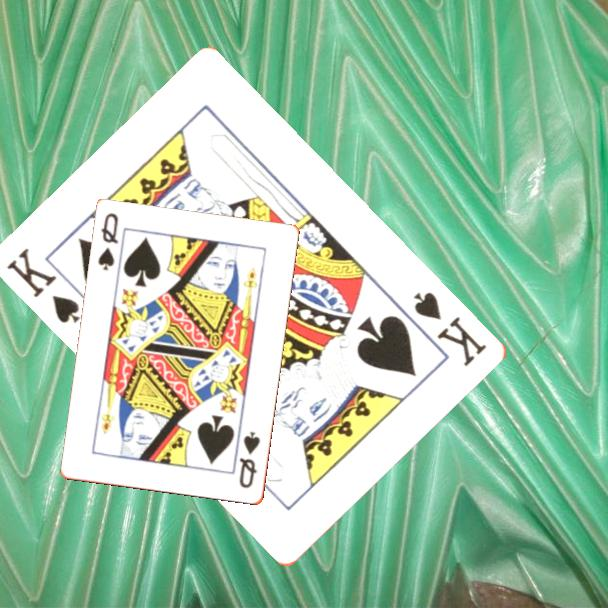s12: (236, 428, 263, 492), (95, 210, 121, 274)
s13: (3, 244, 84, 327), (410, 288, 491, 370)
